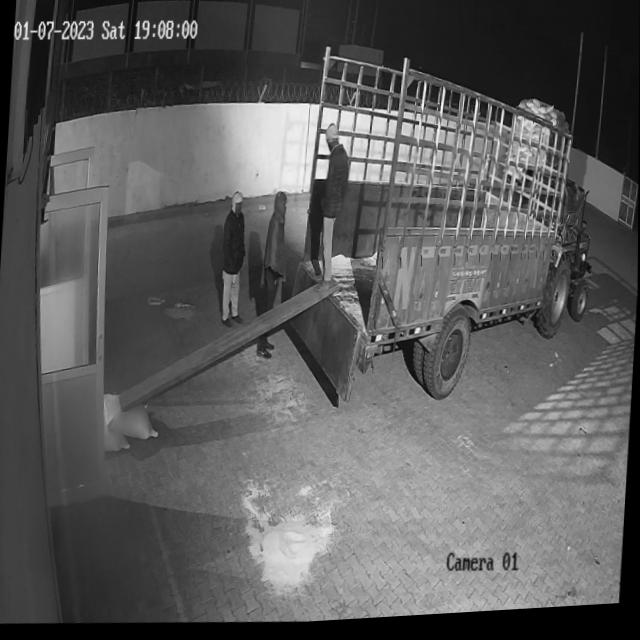sack: (101, 392, 161, 445)
